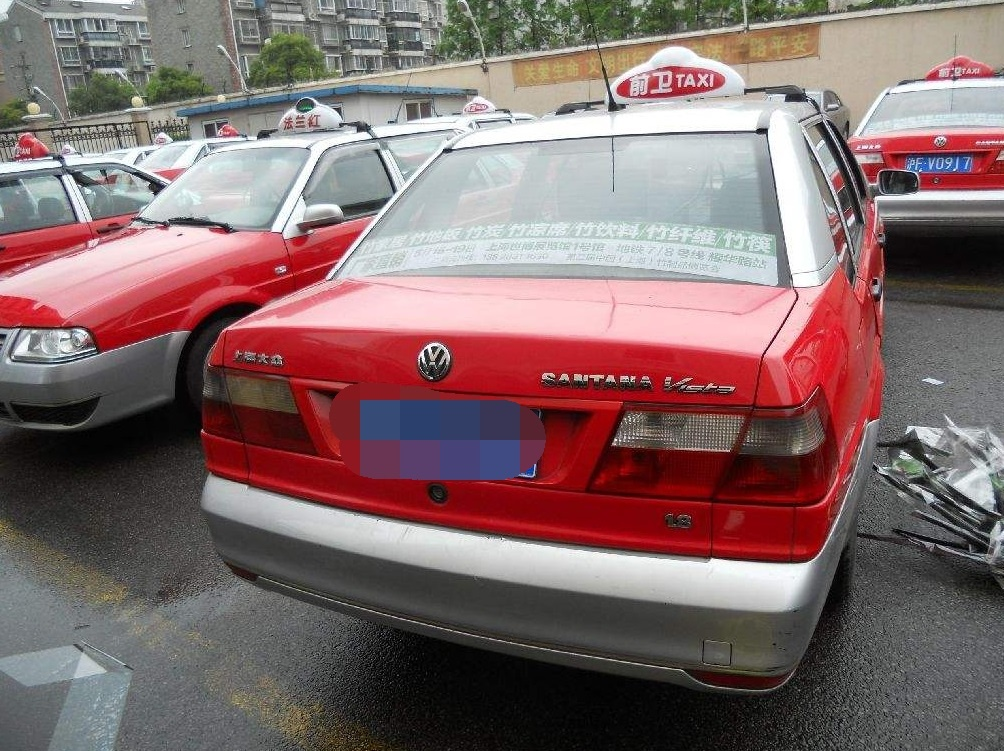taxi: (198, 77, 883, 715), (9, 118, 468, 451), (825, 61, 1004, 235)
